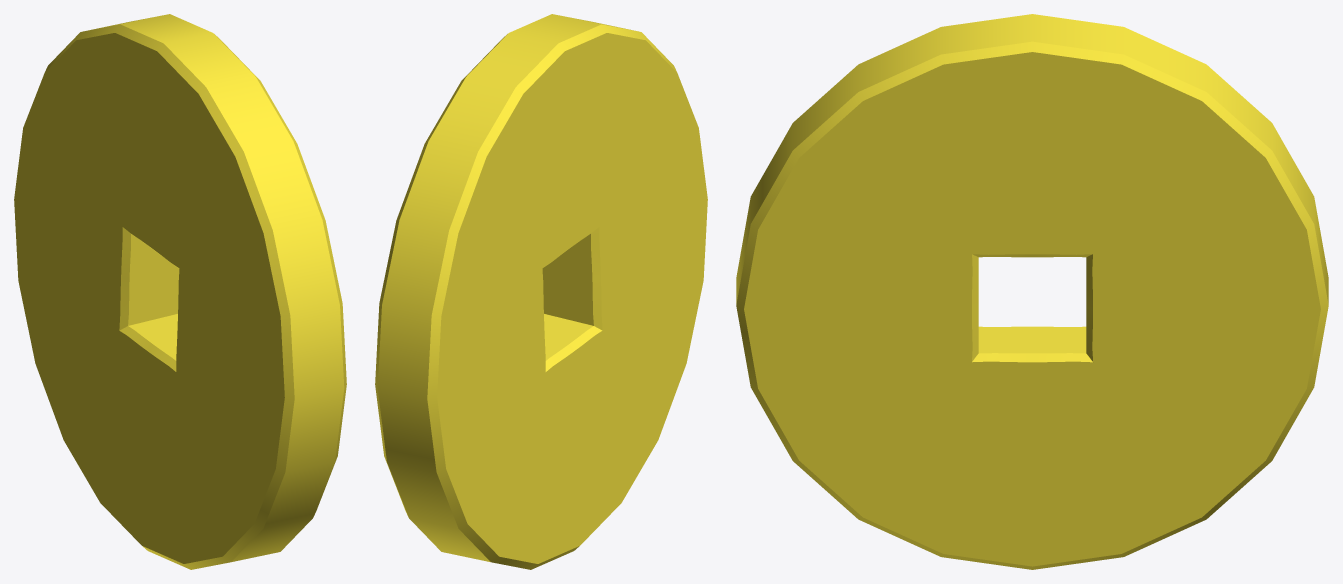
File: Coin.fbx
The picture shows the model from 3 angles, left to right: view 1: azimuth 30°, elevation 25°; view 2: azimuth 150°, elevation 25°; view 3: azimuth 270°, elevation 25°; orthographic projection. The views are drawn at different scales.
Parts seen in each view (by area): view 1: polySurface2; view 2: polySurface2; view 3: polySurface2.
Part boxes in pixels (x1,y1,x2,y2): polySurface2: [14, 14, 346, 569]; polySurface2: [375, 14, 707, 569]; polySurface2: [736, 14, 1328, 569].
Bounding box in the file's own units: 0.1559 × 0.9704 × 0.9676.
